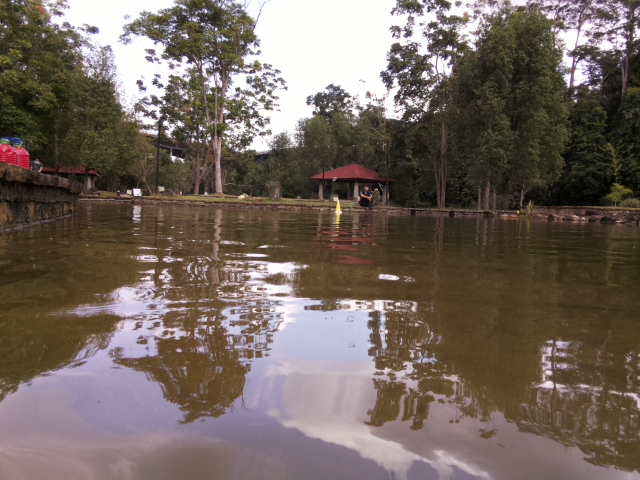checkpoint: (333, 198, 344, 215)
